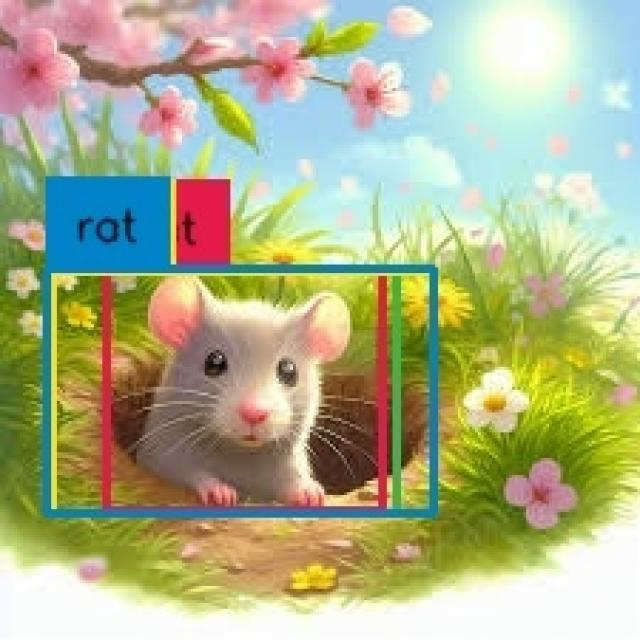rat: (47, 270, 434, 512), (51, 270, 432, 512), (52, 270, 396, 512), (106, 270, 382, 512)
